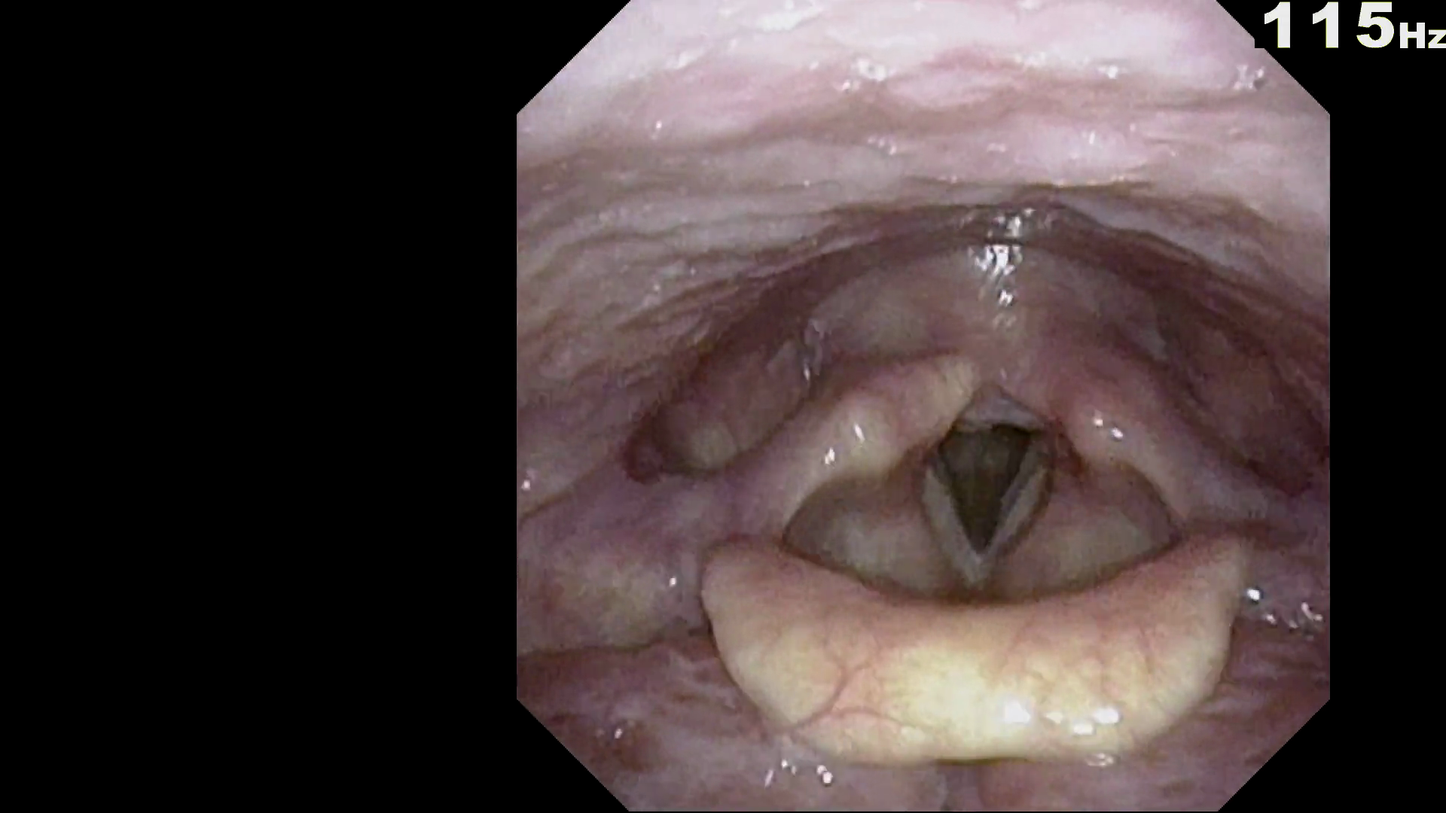epiglottis: (665, 502, 1284, 775)
trachea: (903, 406, 1058, 582)
